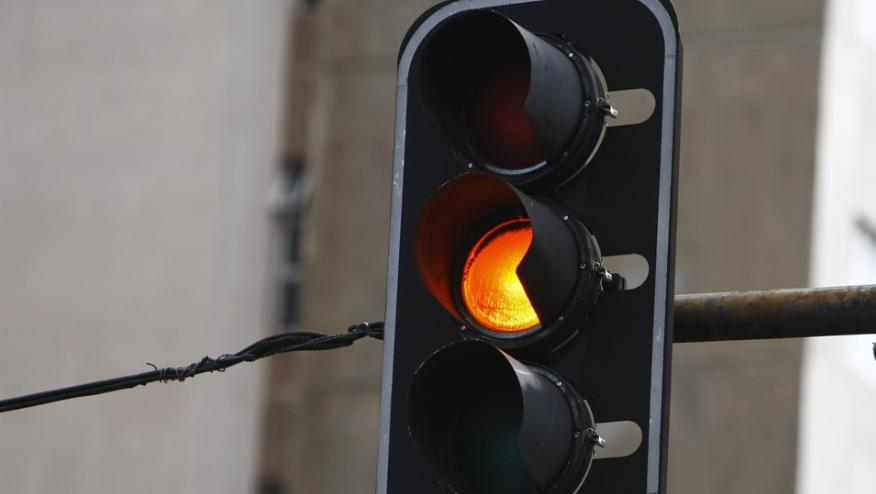yellow_light: (374, 0, 685, 494)
